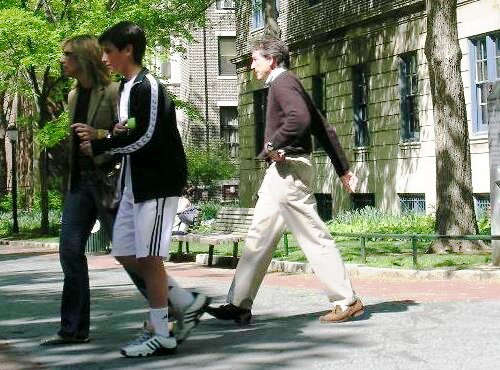person: (208, 32, 366, 330), (100, 19, 217, 355), (40, 30, 141, 351)
